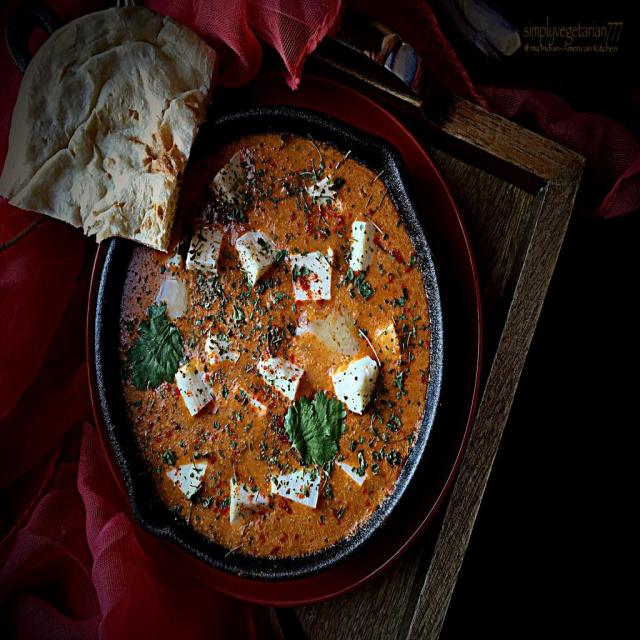roti: (22, 49, 162, 192)
